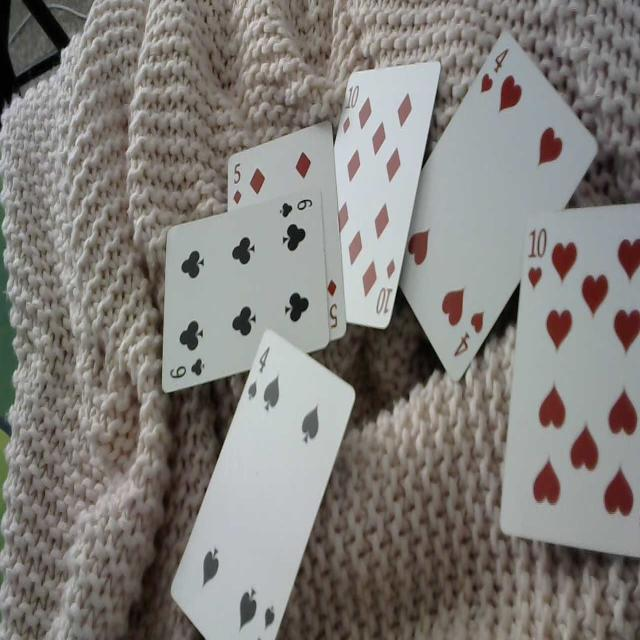10D: (374, 252, 396, 321), (339, 79, 360, 138)
10H: (527, 222, 547, 294)
4H: (479, 36, 510, 100), (452, 306, 486, 361)
4S: (246, 342, 272, 406)
5D: (324, 276, 340, 335), (230, 160, 246, 206)
6C: (168, 356, 208, 383), (278, 195, 314, 222)
